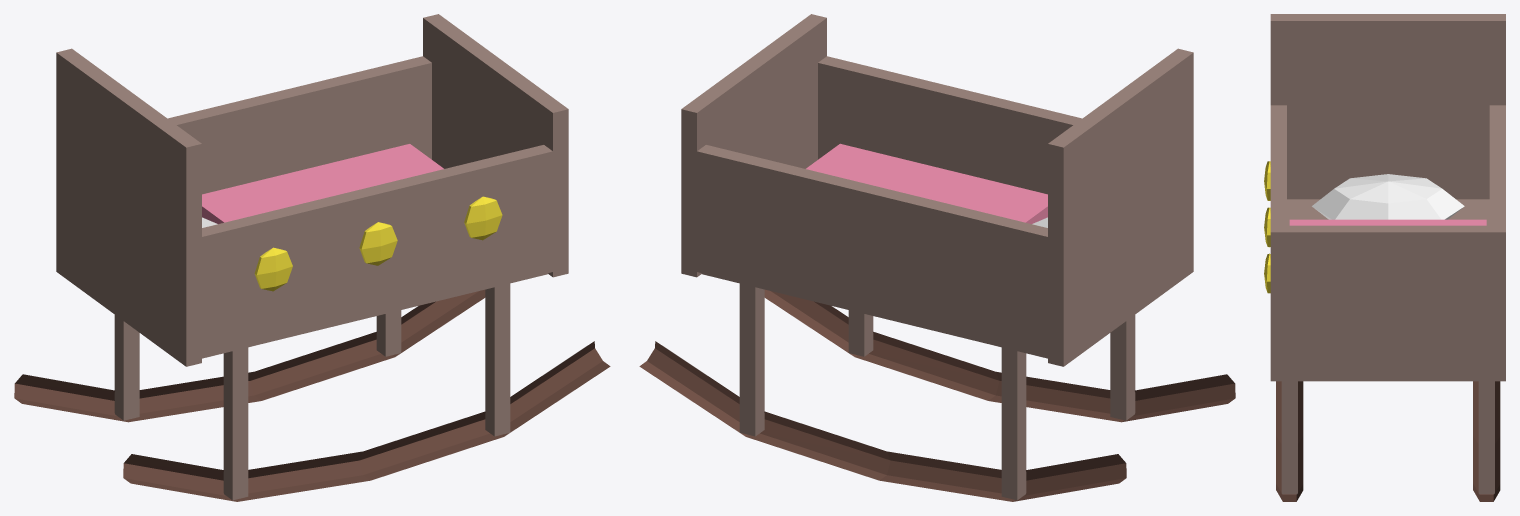
Rendered from vagga.glb.
3 views of the same model, side by side, from view 1: azimuth 30°, elevation 25°; view 2: azimuth 150°, elevation 25°; view 3: azimuth 270°, elevation 25° (orthographic). The views are drawn at different scales.
Parts seen in each view (by area): view 1: vagga; view 2: vagga; view 3: vagga.
Boxes of the visible parts, bbox=[...] form: vagga: bbox=[14, 14, 610, 501]; vagga: bbox=[639, 14, 1235, 501]; vagga: bbox=[1264, 14, 1505, 501].
Size of the model in its own units: 0.9161 by 0.7017 by 0.442.
